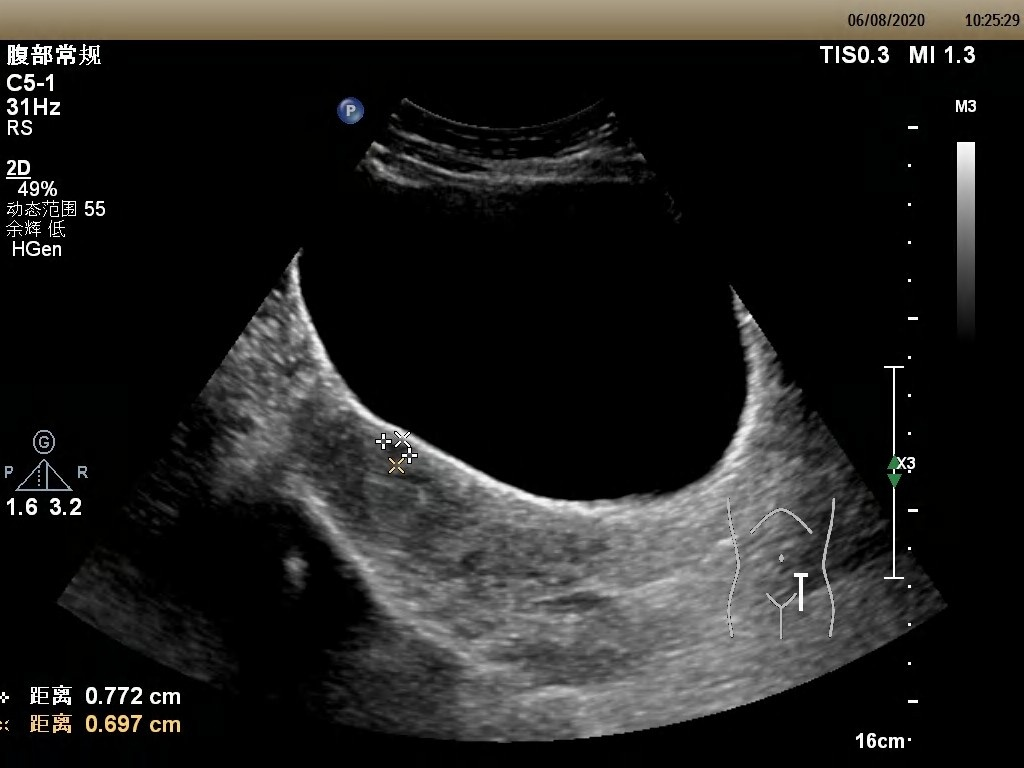肌瘤: (380, 439, 411, 466)
